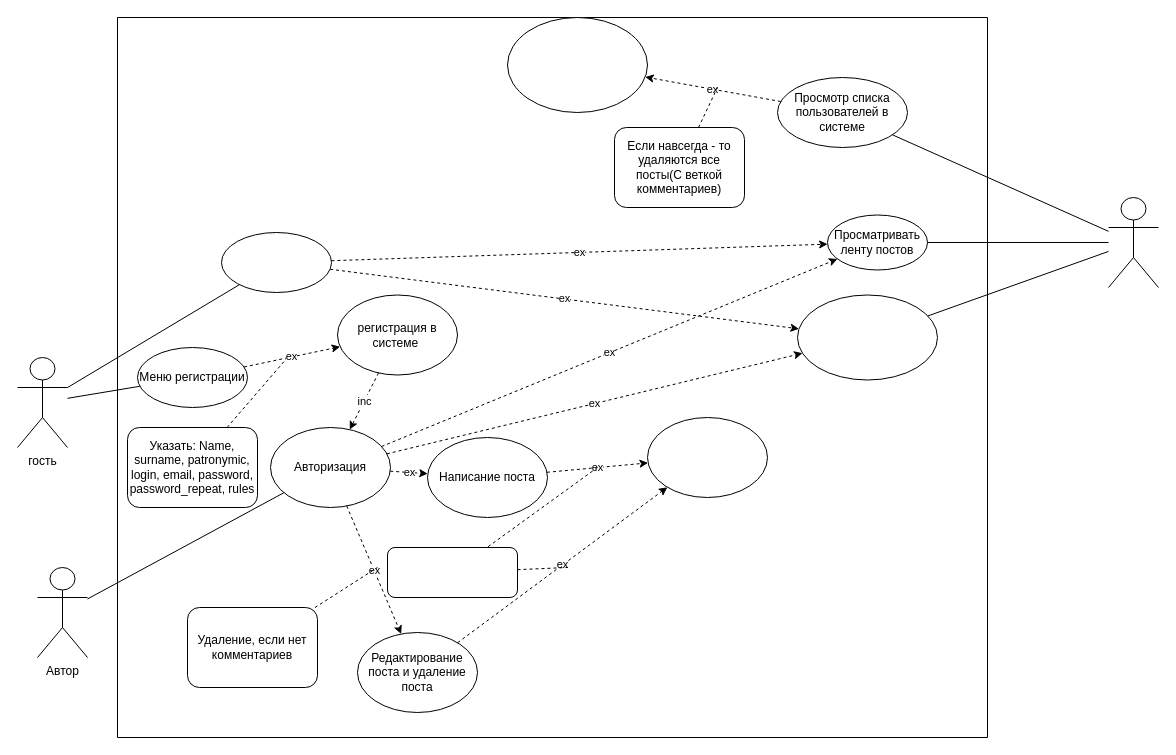
This 1176x755 diagram has some shape labels left out. Each missing label, with the centre of its shape:
"Админ" belongs at point (1133, 242).
"Блокировка входа пользователя в систему на определенное время или навсегда" belongs at point (577, 64).
"Если пост не свой" belongs at point (452, 572).
"Меню главной страницы" belongs at point (276, 262).
"Написание комментариев на все посты" belongs at point (707, 457).
"Открывать страницу поста с детальной информацией по посту" belongs at point (867, 337).
